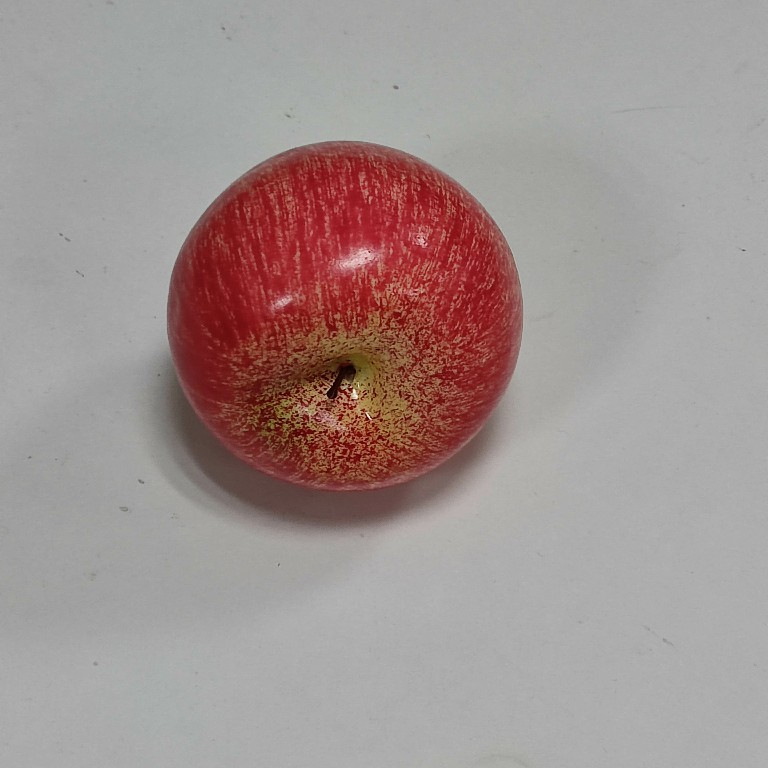fruit_apple: (156, 134, 530, 500)
